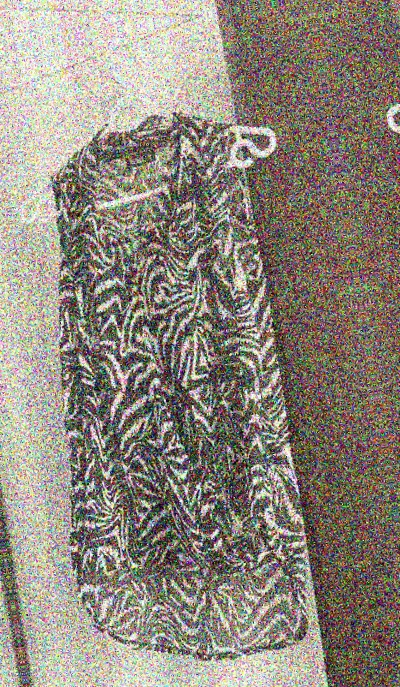Dress: (0, 77, 381, 687), (359, 12, 400, 633)
